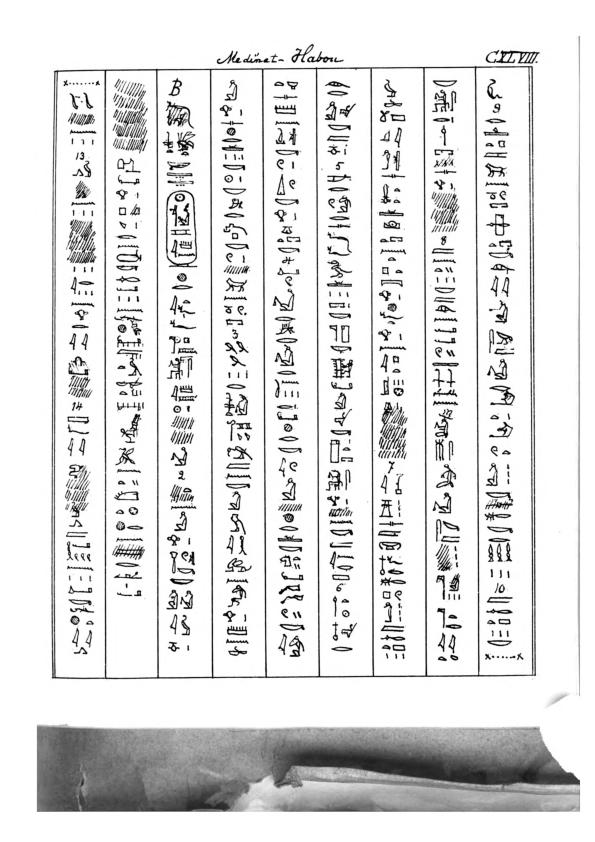circle: (163, 190, 199, 270)
